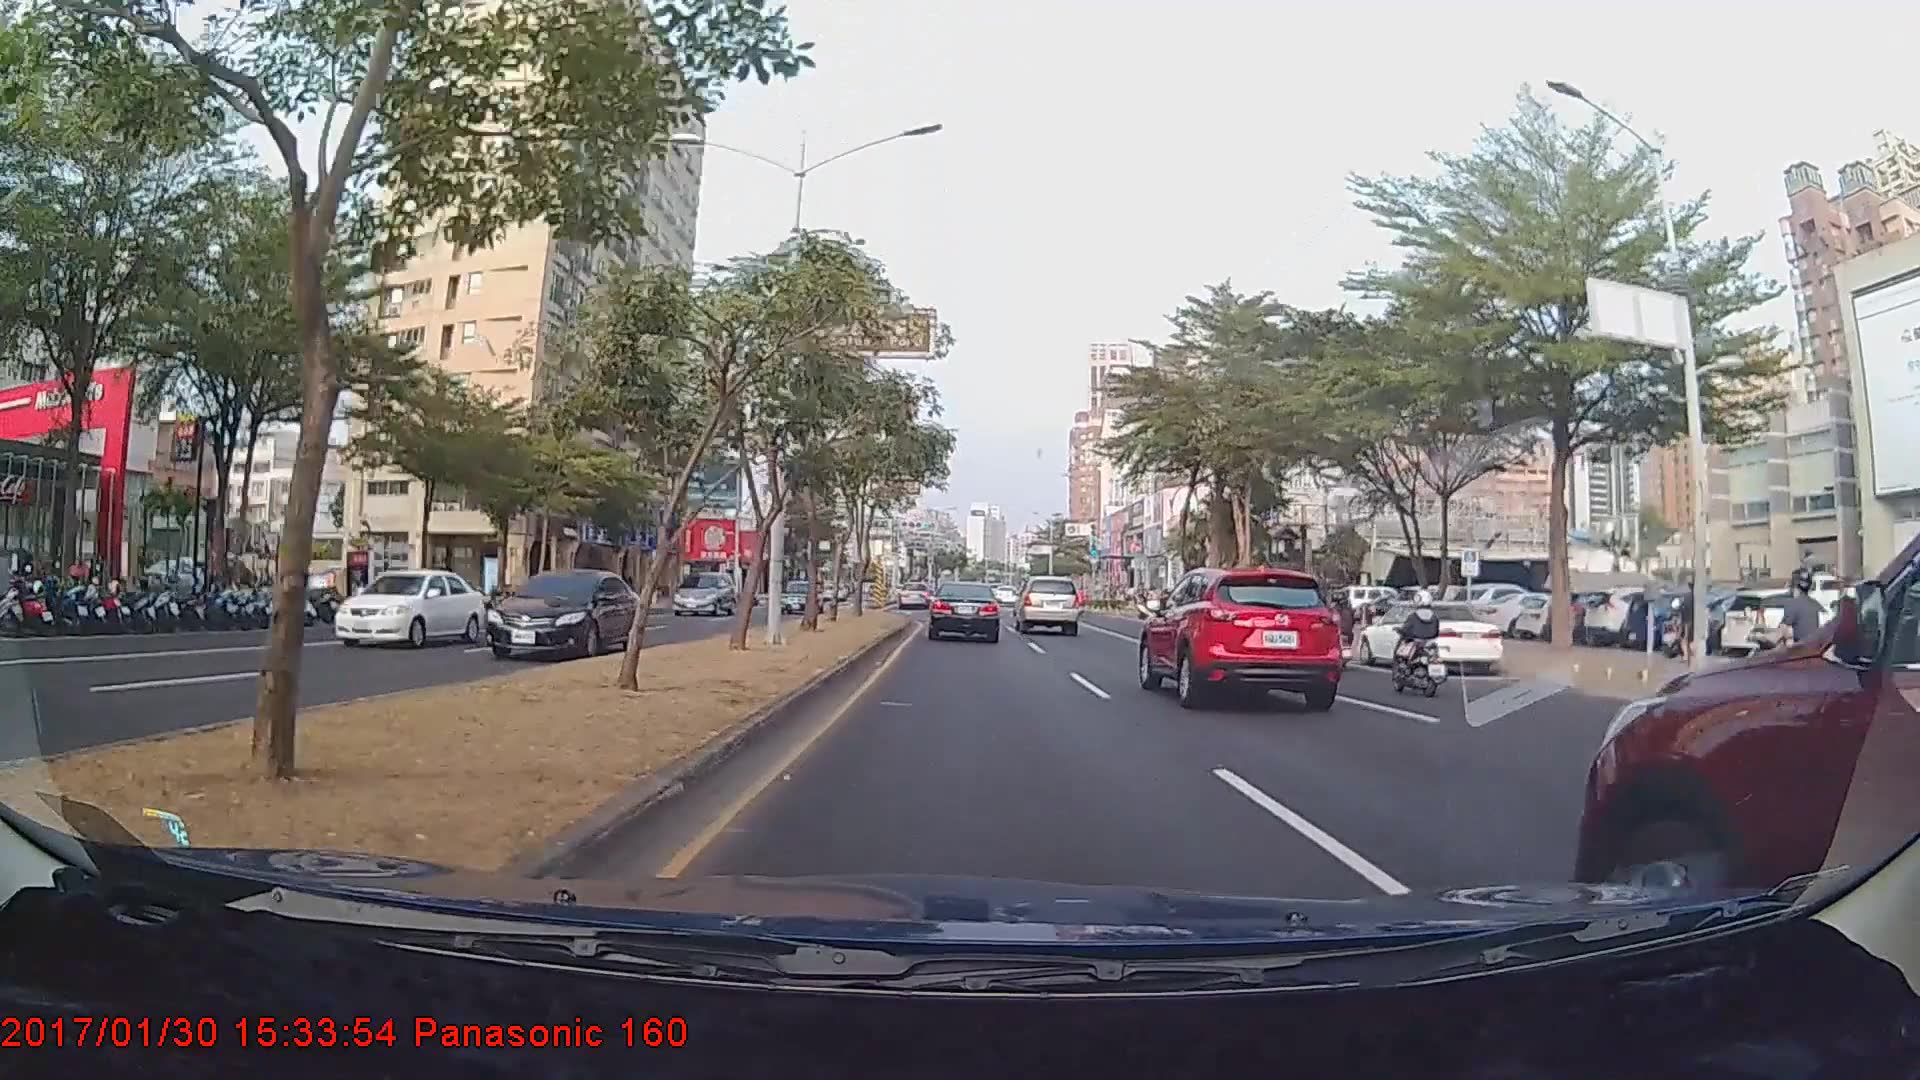rider: (1709, 555, 1836, 756), (1380, 586, 1452, 698)
vehicle: (1573, 466, 1920, 1020), (1137, 561, 1347, 709), (481, 567, 642, 658), (332, 570, 484, 647), (1354, 597, 1503, 674), (1718, 588, 1852, 662), (927, 581, 1001, 643), (1014, 574, 1080, 635), (668, 570, 737, 616), (780, 582, 819, 615), (895, 580, 931, 610)
